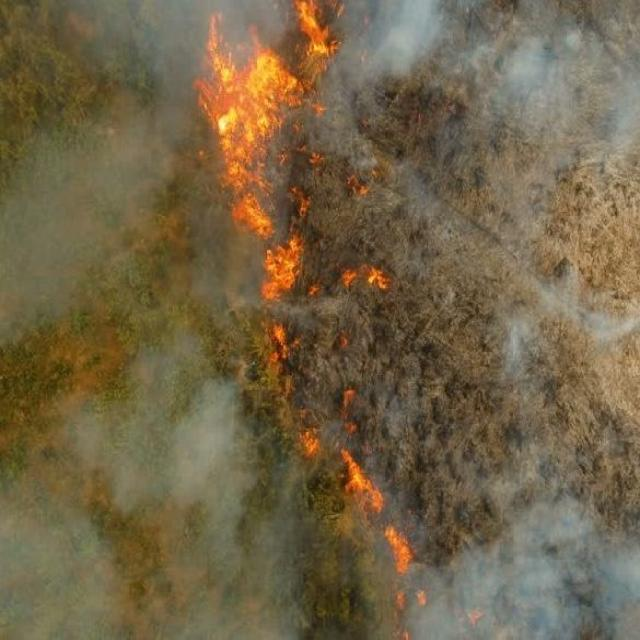Fire: (197, 14, 412, 640)
Smoke: (0, 0, 198, 640), (416, 11, 640, 168), (413, 501, 640, 639)
